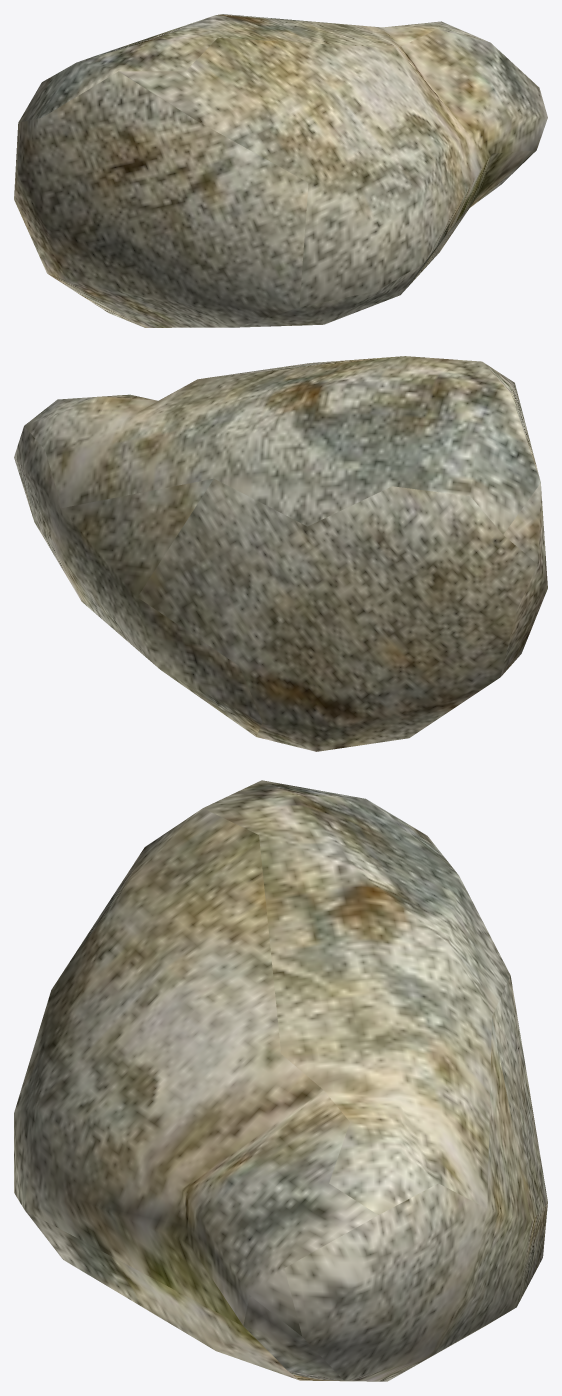
File: rock007.glb
The picture shows the model from 3 angles, top to bottom: view 1: azimuth 30°, elevation 25°; view 2: azimuth 150°, elevation 25°; view 3: azimuth 270°, elevation 25°; orthographic projection. The views are drawn at different scales.
Visible parts, largest first — view 1: rock007; view 2: rock007; view 3: rock007.
Boxes of the visible parts, x1,y1,x2,y2 form: rock007: (14, 14, 547, 327); rock007: (14, 356, 547, 751); rock007: (14, 780, 547, 1381).
Bounding box in the file's own units: 0.9832 × 0.6102 × 0.6355.
1 material, 1 textured.
